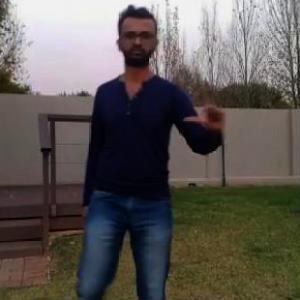land_hand: (179, 82, 231, 132)
